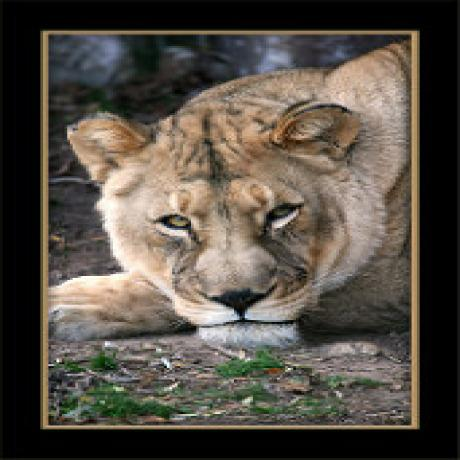Lion: (52, 35, 415, 351)
